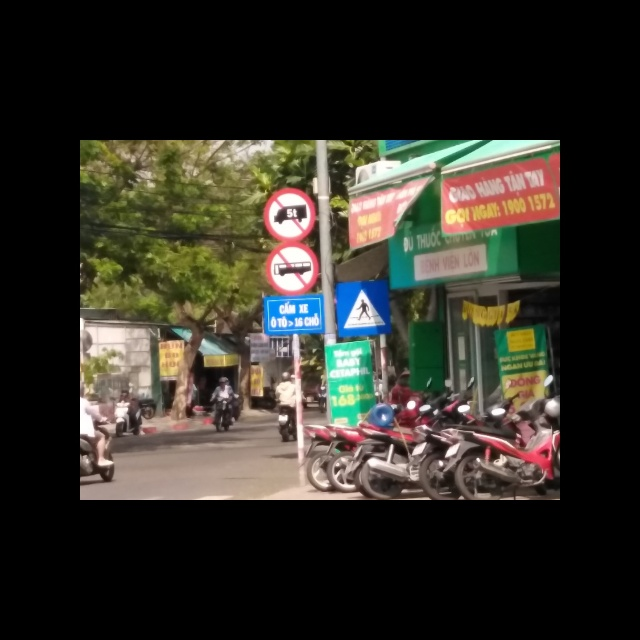Cấm xe tải: (263, 187, 316, 242)
Cấm xe xe khách: (266, 243, 320, 294)
Đường dành cho người đi bộ: (336, 281, 392, 335)
